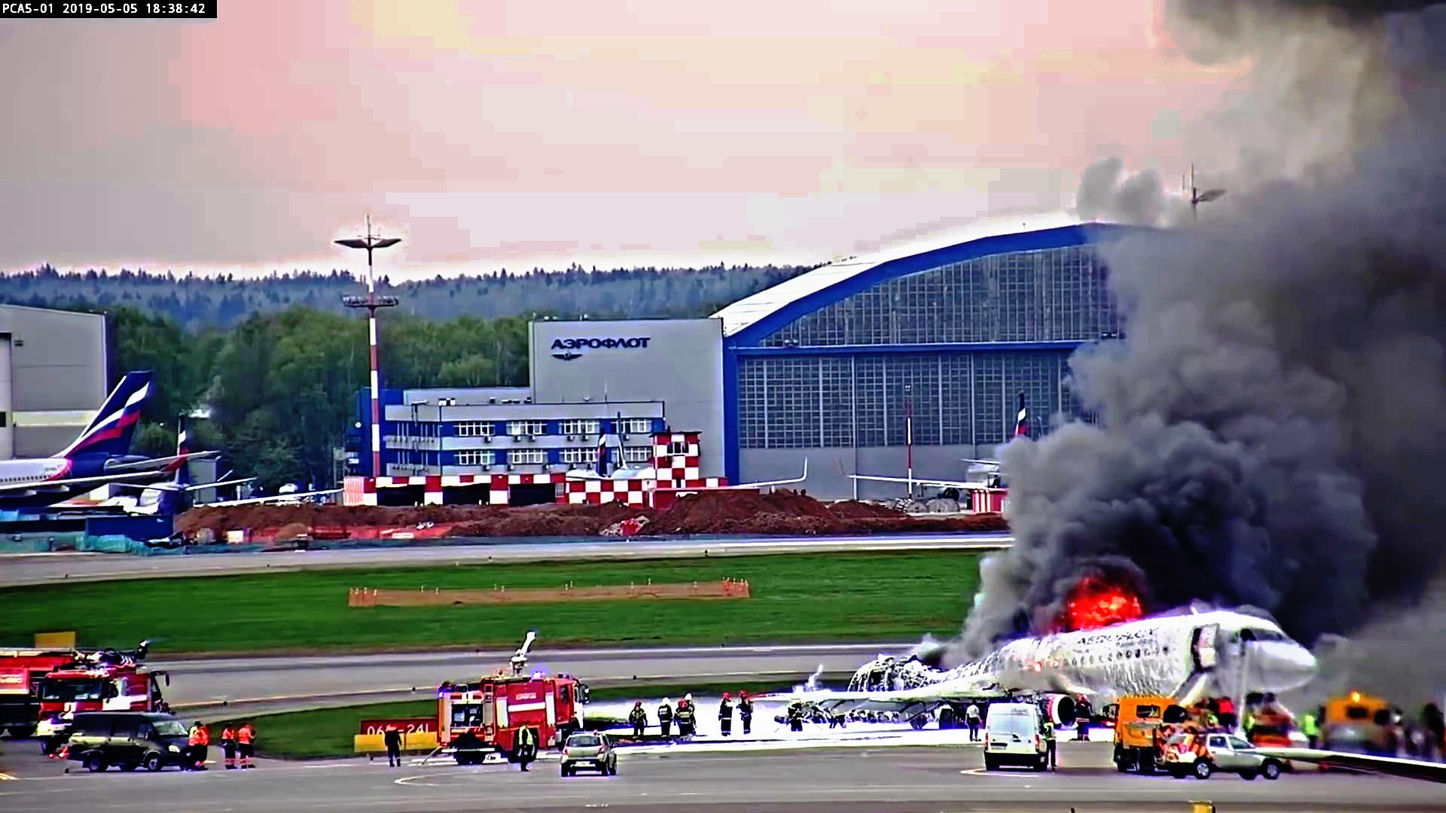fire: (1062, 593, 1148, 648)
smoke: (1119, 181, 1446, 557), (1028, 433, 1442, 581)
